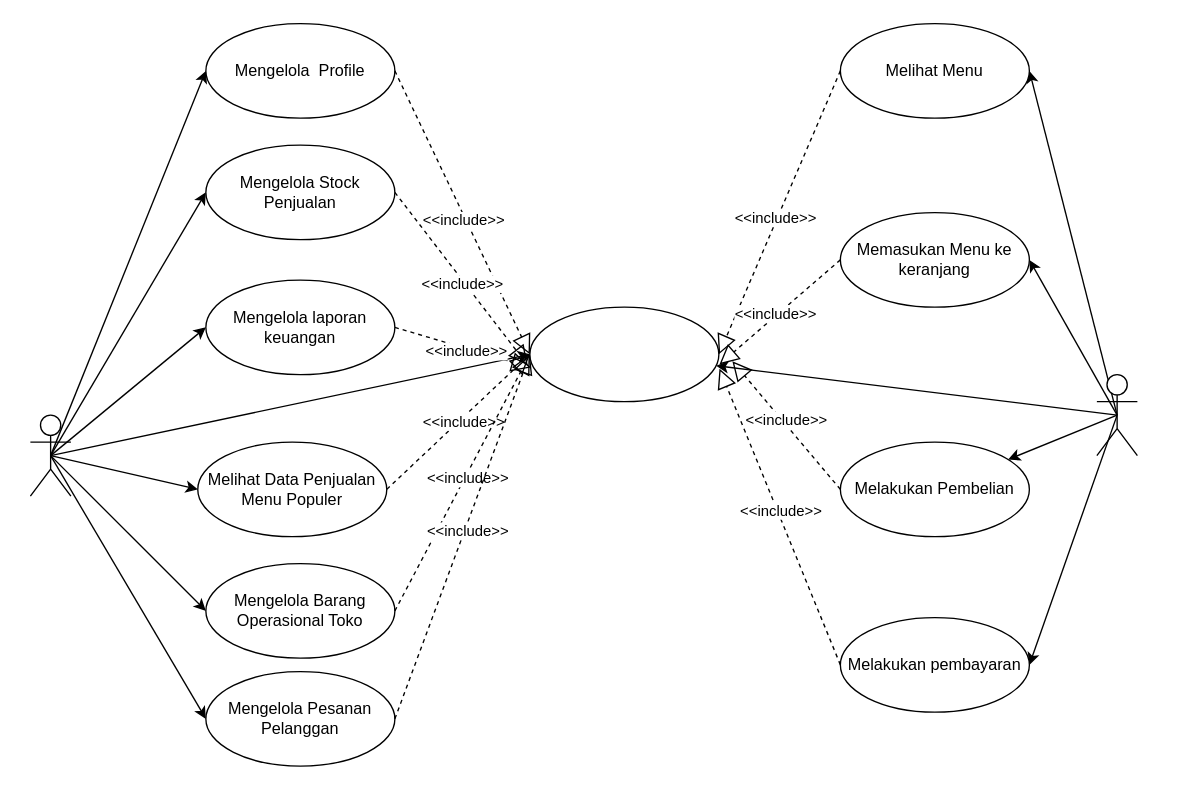
Image size: 1179x790. Some labels were removed from this diagram. Each missing label, with the box of its shape:
Autentikasi: (529, 306, 719, 402)
Pelanggan: (1096, 373, 1137, 456)
Penjual: (29, 414, 71, 496)
